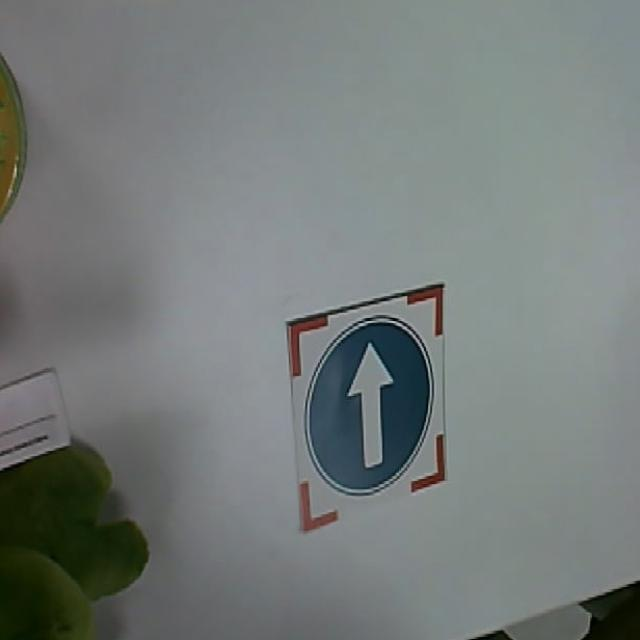straight: (284, 287, 449, 536)
